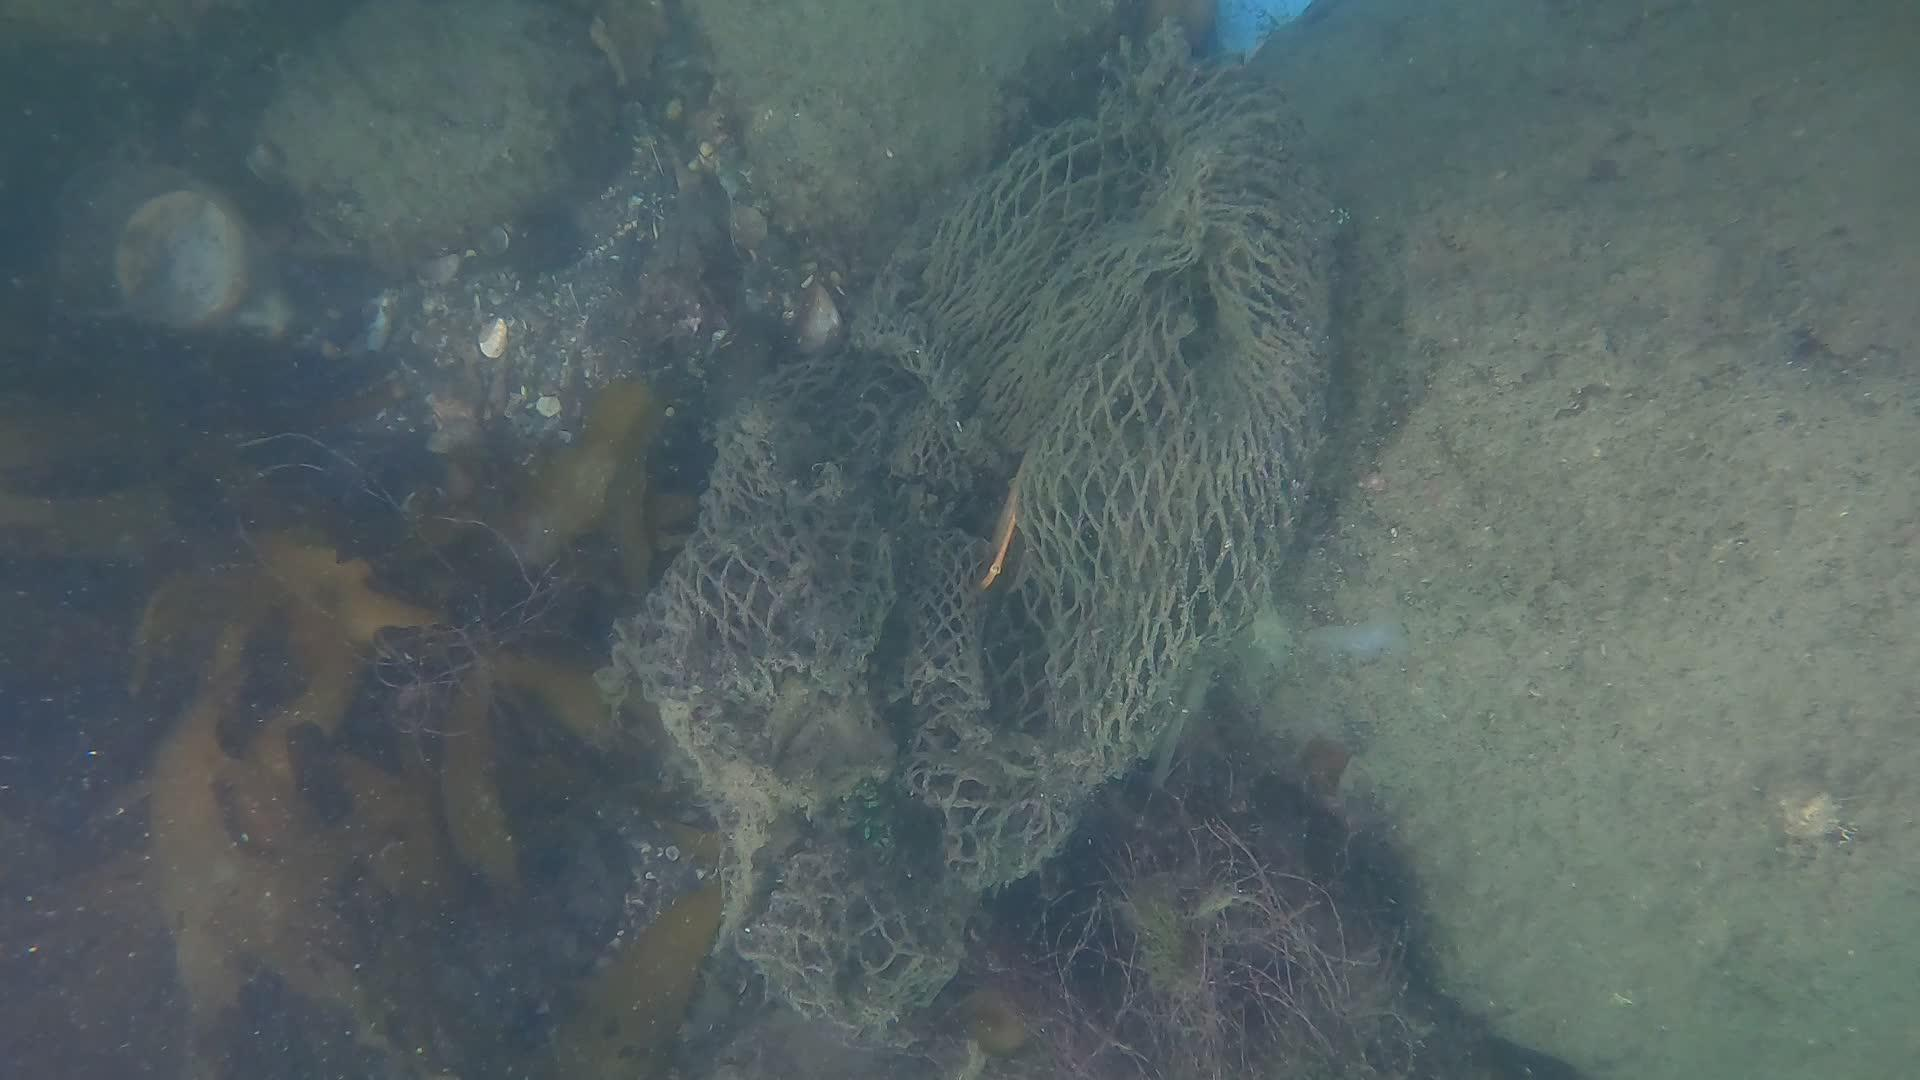fish net: (626, 49, 1329, 1035)
